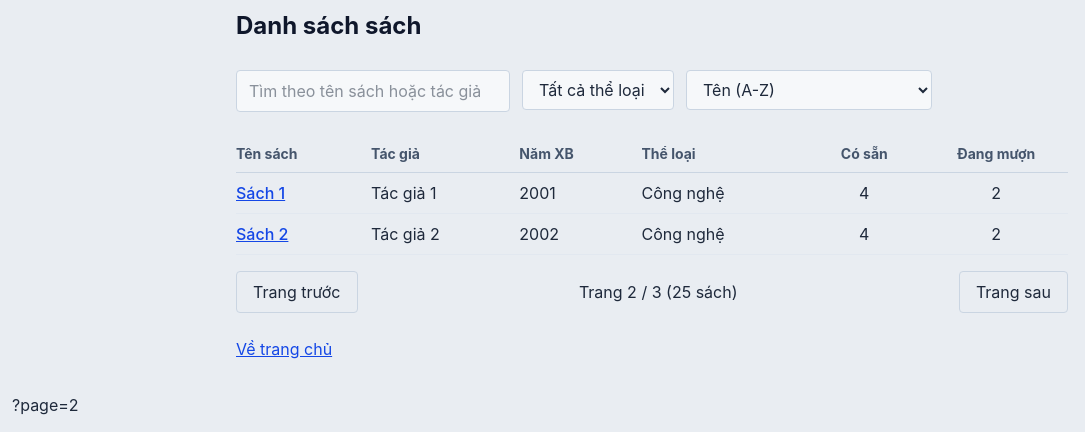
BookList › debounces the search box, then updates the URL and resets to page 1
expect the table is shown: met, box left=236, top=136, right=1068, bottom=255
In the search field labelled "Tìm theo tên sách hoặc tác giả": [373, 91] box left=236, top=70, right=510, bottom=112, type "abc"
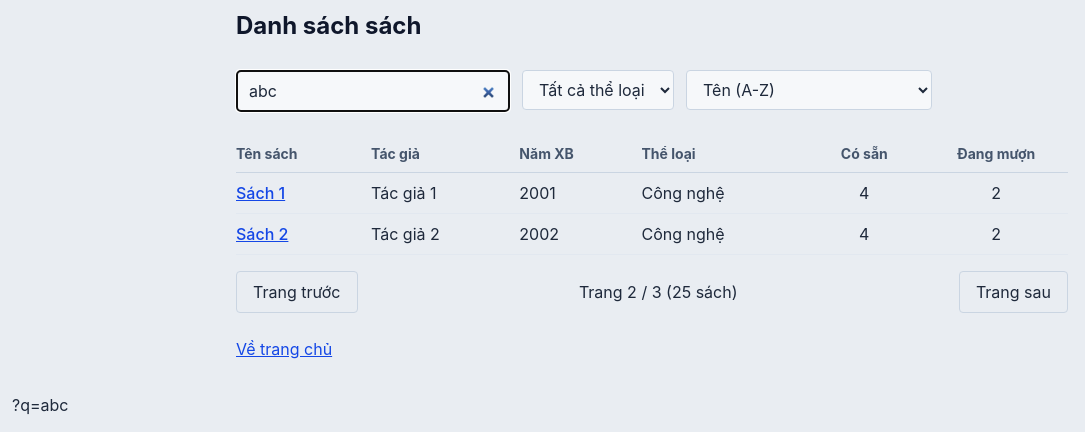
expect the text with test id "url" reads "?q=abc": met, box left=12, top=395, right=68, bottom=415
expect the text with test id "url" no longer shows "page": met, box left=12, top=395, right=68, bottom=415
